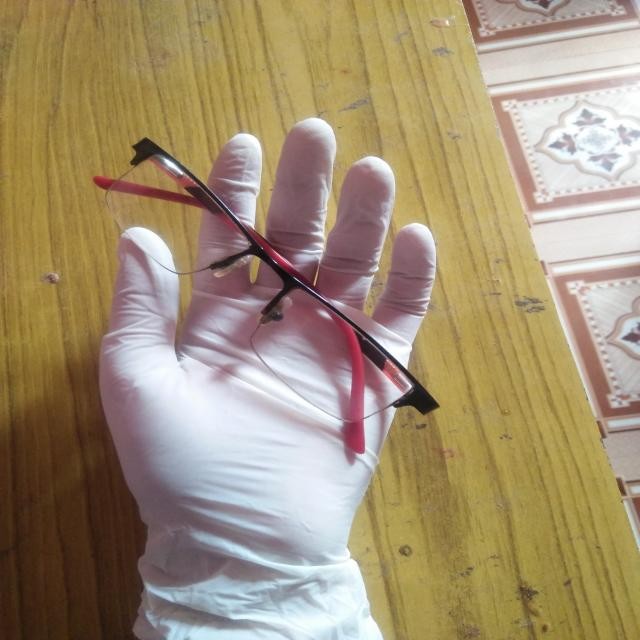glove: (91, 113, 443, 640)
